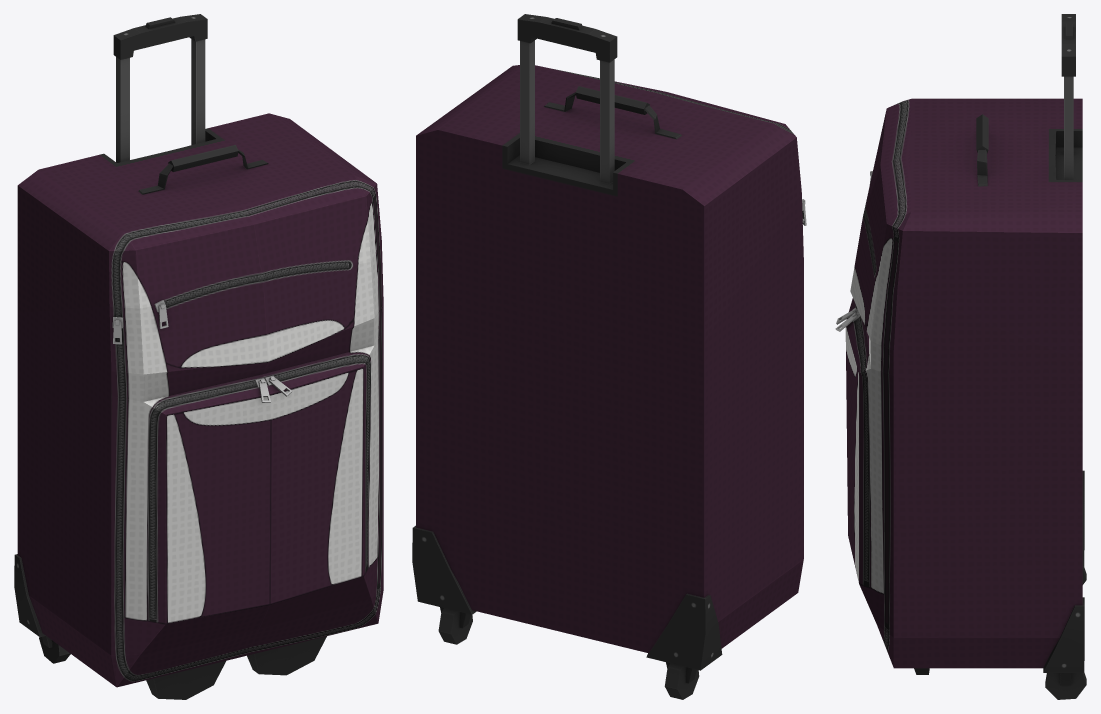
Rendered from cubo4.gltf.
3 views of the same model, side by side, from view 1: azimuth 30°, elevation 25°; view 2: azimuth 150°, elevation 25°; view 3: azimuth 270°, elevation 25° (orthographic). The views are drawn at different scales.
Visible parts, largest first — view 1: Luggage_mesh; view 2: Luggage_mesh; view 3: Luggage_mesh.
Part boxes in pixels (x1,y1,x2,y2): Luggage_mesh: (14, 14, 383, 699); Luggage_mesh: (412, 14, 806, 699); Luggage_mesh: (835, 14, 1086, 699).
Bounding box in the file's own units: 0.2936 × 0.6189 × 0.2292.
1 material, 1 textured.
